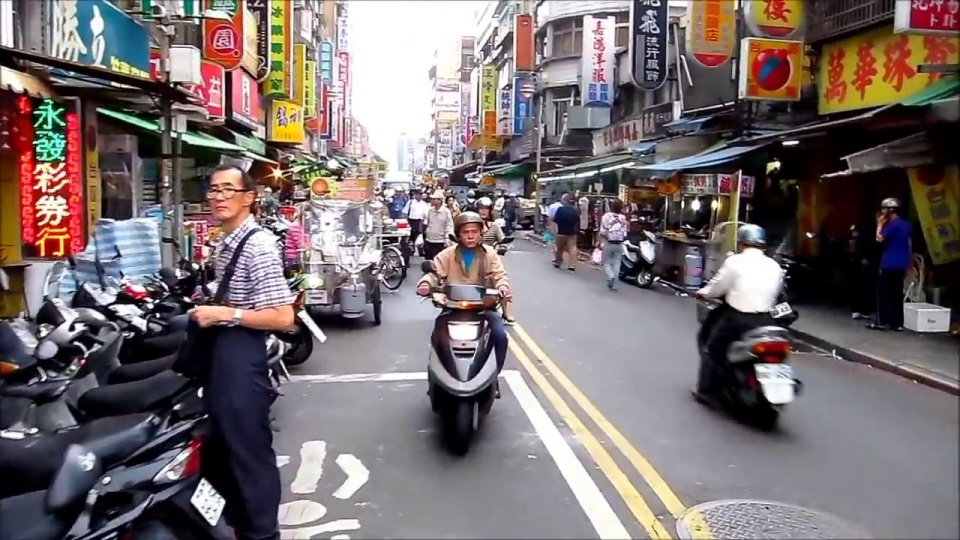person_head: (204, 165, 252, 221), (452, 212, 483, 249), (734, 223, 768, 253), (475, 198, 492, 220), (426, 194, 443, 210), (609, 198, 624, 214), (413, 189, 423, 203), (566, 198, 576, 207), (554, 196, 563, 204)
person_vbox: (181, 157, 299, 540), (414, 207, 515, 400), (687, 221, 784, 406), (469, 194, 515, 326), (597, 195, 627, 293), (420, 189, 453, 278), (550, 196, 582, 274), (400, 188, 427, 256), (283, 210, 309, 268), (546, 195, 567, 264)
